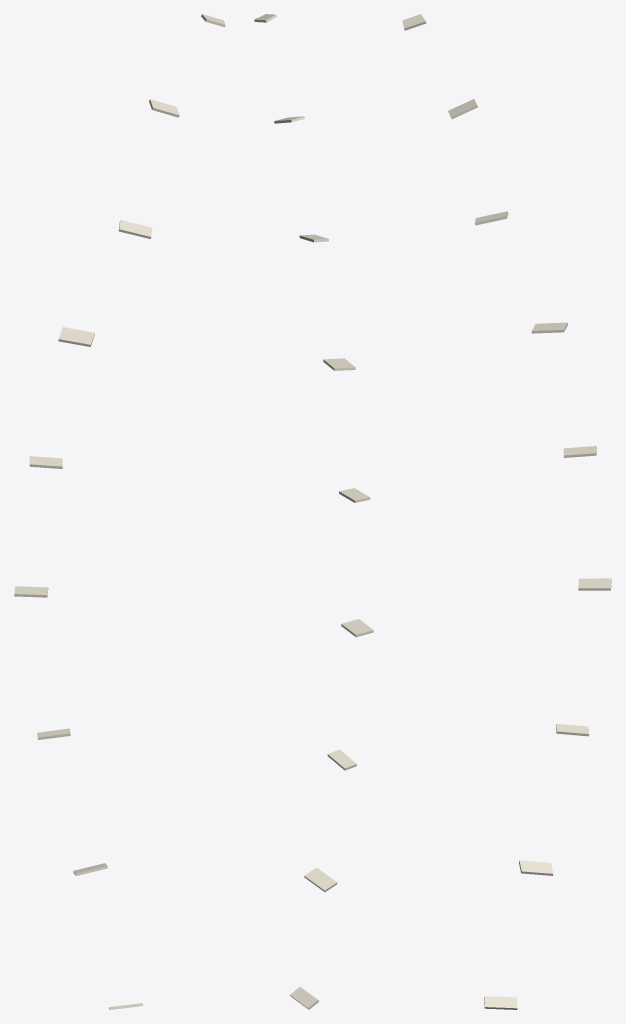
3 renders of one model, left to right at view 1: azimuth 90°, elevation 25°; view 2: azimuth 210°, elevation 25°; view 3: azimuth 270°, elevation 25°, orthographic. The views are drawn at different scales.
Parts seen in each view (by area): view 1: ZA_5e590f3614ede66d; view 2: ZA_5e590f3614ede66d; view 3: ZA_5e590f3614ede66d.
Boxes of the visible parts, left/top/right/bottom form: ZA_5e590f3614ede66d: left=14, top=14, right=225, bottom=1009; ZA_5e590f3614ede66d: left=254, top=14, right=373, bottom=1009; ZA_5e590f3614ede66d: left=402, top=14, right=611, bottom=1009.
Size of the model in its own units: 0.0075 by 0.2039 by 0.0391.
